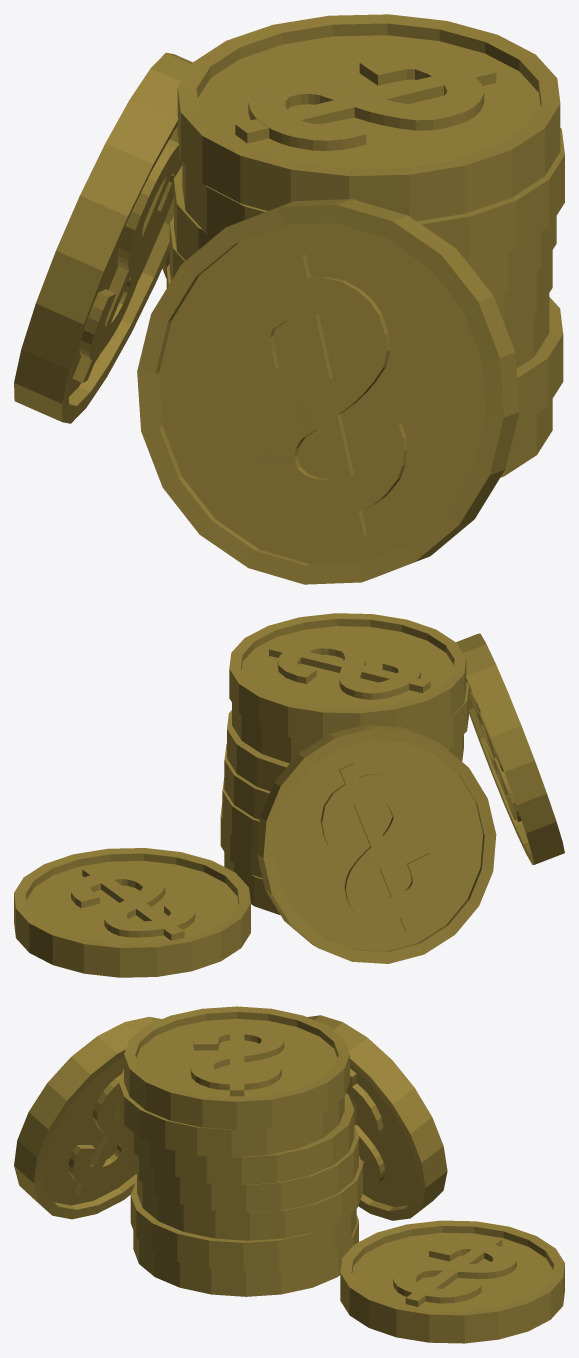
Rendered from monetki.glb.
The picture shows the model from 3 angles, top to bottom: view 1: azimuth 30°, elevation 25°; view 2: azimuth 150°, elevation 25°; view 3: azimuth 270°, elevation 25°; orthographic projection. The views are drawn at different scales.
Visible parts, largest first — view 1: Cube.010, Cube.007, Cube, Cube.006, Cube.005, Cube.002, Cube.004, Cube.003, Cube.001; view 2: Cube, Cube.008, Cube.007, Cube.010, Cube.006, Cube.005, Cube.004, Cube.003, Cube.002, Cube.009; view 3: Cube.007, Cube.008, Cube.010, Cube, Cube.002, Cube.005, Cube.006, Cube.004, Cube.003, Cube.001, Cube.009.
Part boxes in pixels (x1,y1,x2,y2): Cube.010: [137, 199, 519, 584]; Cube.007: [177, 14, 560, 221]; Cube: [14, 52, 192, 423]; Cube.006: [182, 128, 564, 264]; Cube.005: [174, 166, 556, 294]; Cube.002: [515, 297, 563, 426]; Cube.004: [169, 217, 552, 331]; Cube.003: [166, 264, 549, 368]; Cube.001: [500, 407, 552, 477]; Cube: [257, 725, 496, 963]; Cube.008: [14, 848, 250, 977]; Cube.007: [229, 613, 466, 741]; Cube.010: [456, 633, 564, 864]; Cube.006: [232, 681, 468, 763]; Cube.005: [227, 710, 463, 791]; Cube.004: [224, 744, 270, 819]; Cube.003: [222, 777, 259, 850]; Cube.002: [220, 803, 262, 878]; Cube.009: [224, 852, 268, 896]; Cube.007: [124, 1006, 349, 1129]; Cube.008: [340, 1220, 564, 1343]; Cube.010: [14, 1016, 161, 1219]; Cube: [307, 1015, 447, 1220]; Cube.002: [130, 1180, 356, 1270]; Cube.005: [128, 1093, 354, 1185]; Cube.006: [118, 1069, 344, 1157]; Cube.004: [133, 1125, 358, 1213]; Cube.003: [137, 1155, 362, 1240]; Cube.001: [133, 1235, 358, 1296]; Cube.009: [133, 1215, 358, 1282].
Size of the model in its own units: 3.73 by 2.03 by 4.88.
